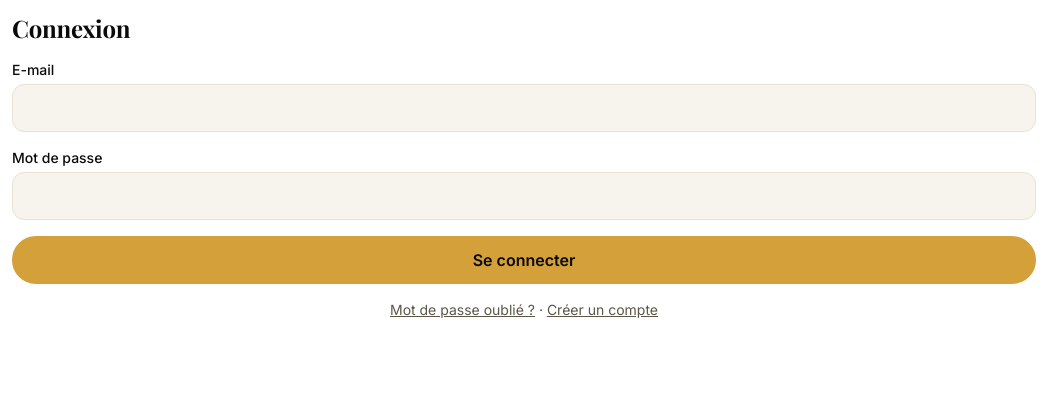
Test: LoginPage › shows a rejected login server message
This screenshot has width=1048, height=395.
Type "client@example.com" into the field labelled "E-mail" at (524, 108), box [12, 84, 1036, 132]
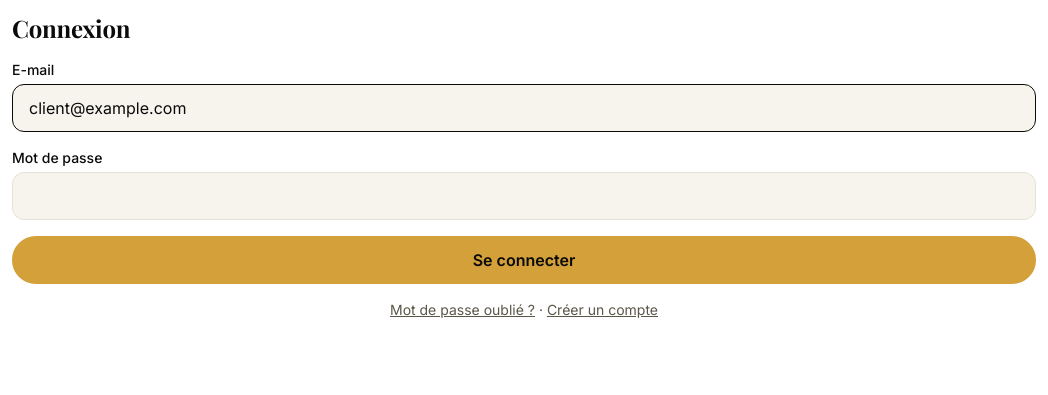
Type "secret" into the password field labelled "Mot de passe" at (524, 196), box [12, 172, 1036, 220]
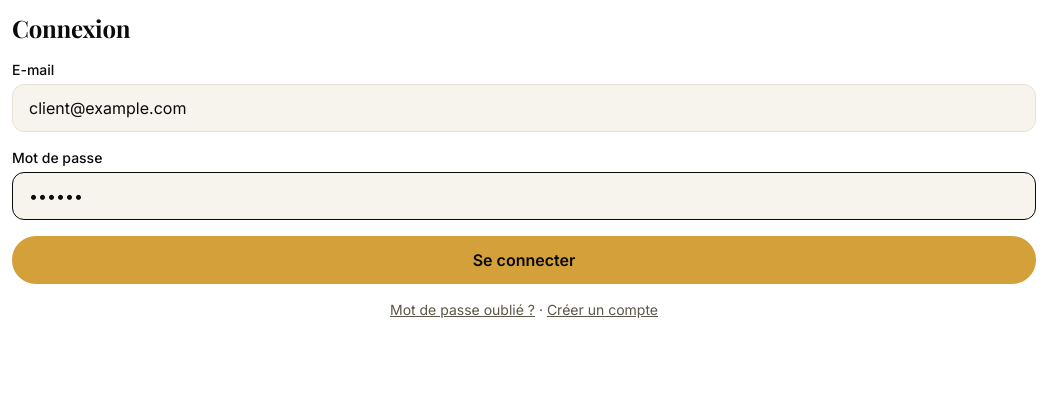
Click the button "Se connecter" at (524, 260), box [12, 236, 1036, 284]
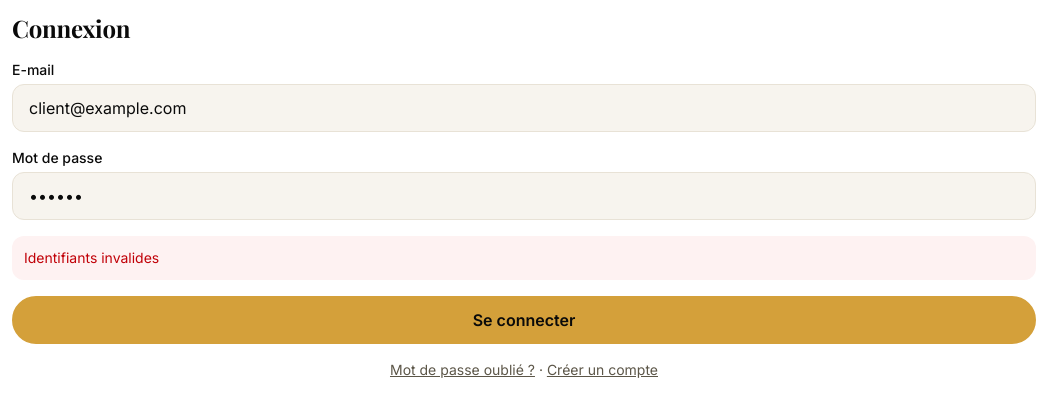
Expected: the text "Identifiants invalides" is shown, [12, 236, 1036, 280]
